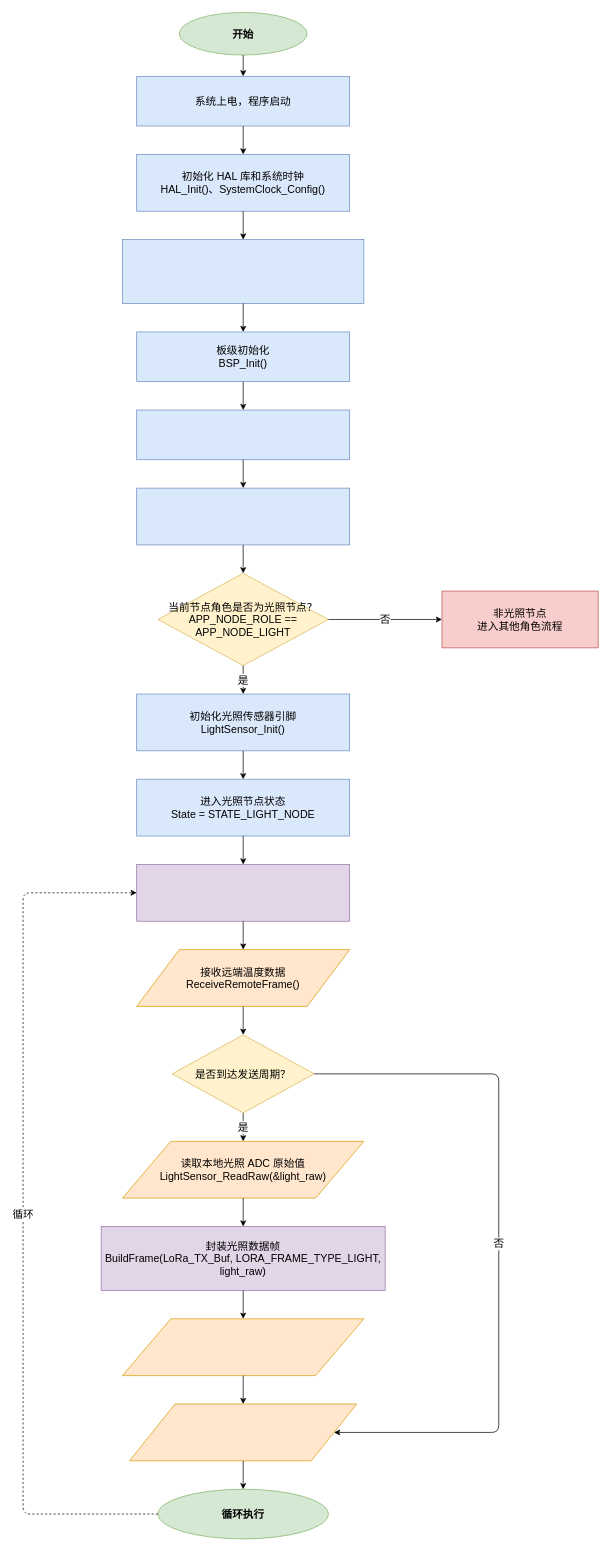
Image size: 611x1551. Some labels were removed from this diagram. The shapes that lost their labels are listed below. From the top down, each one's centre as x and y in pixels, then its label:
At (243,271): "初始化基础外设 MX_GPIO_Init()、MX_ADC_Init()、MX_SUBGHZ_Init() 等".
At (243,434): "初始化 OLED 显示模块 OLED_Init()".
At (243,516): "初始化 LoRa 通信模块 BSP_RADIO_Init()、LORA_Init()".
At (243,892): "周期性执行 LoRa 任务 LoRa_Proc()".
At (243,1347): "发送光照数据 LORA_Tx(LoRa_TX_Buf, LORA_FRAME_SIZE)".
At (243,1432): "OLED 显示本地光照和远端温度 OLED_Proc()".
